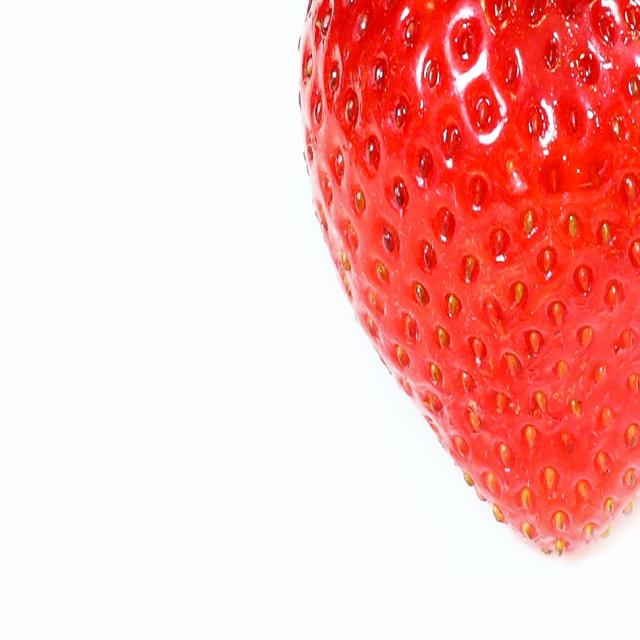strawberry: (285, 0, 640, 598)
